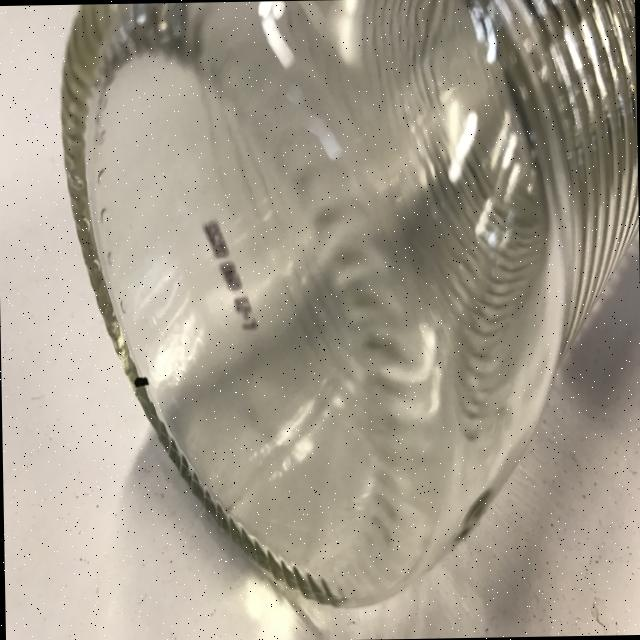glass: (57, 0, 640, 617)
